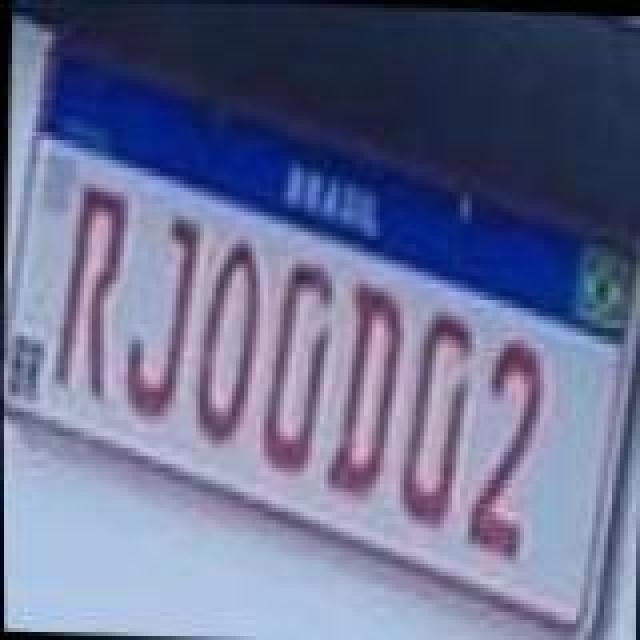2: (460, 324, 544, 556)
D: (326, 276, 410, 492), (394, 306, 474, 522), (258, 260, 334, 480)
J: (120, 208, 204, 420)
O: (188, 230, 264, 438)
R: (48, 178, 132, 406)
